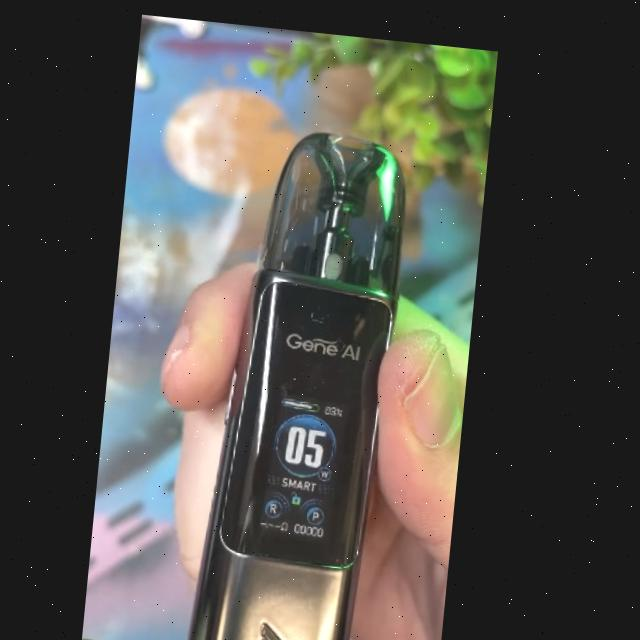vape: (197, 116, 417, 640)
